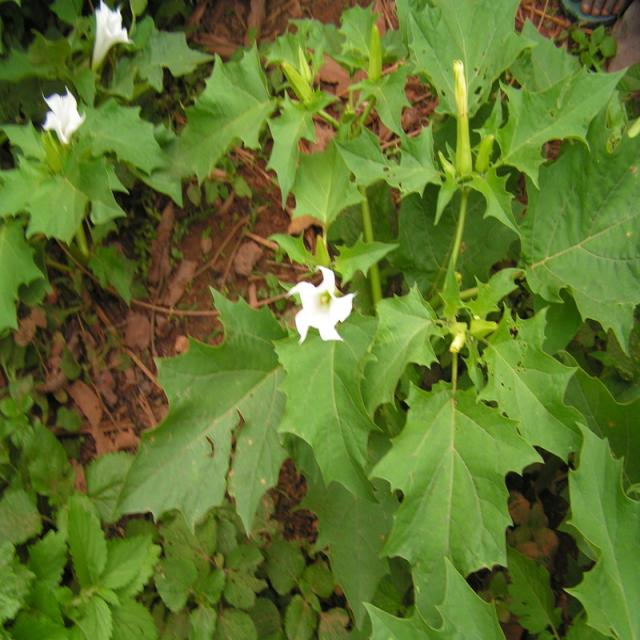Poisonous-Datura_Stramonium: (312, 6, 640, 328), (144, 324, 640, 476), (12, 5, 255, 214), (275, 270, 380, 350)
